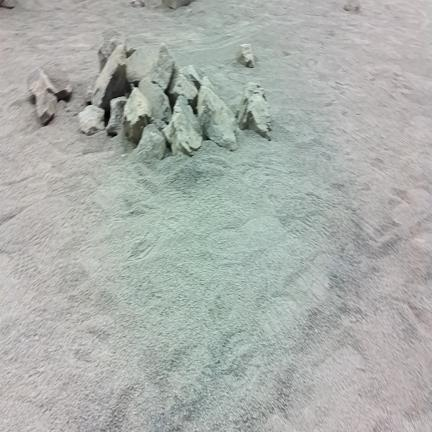Rock: (197, 77, 237, 150), (163, 96, 203, 156), (92, 45, 126, 109), (127, 44, 173, 90), (237, 83, 271, 139), (28, 69, 57, 125), (124, 88, 151, 146), (139, 79, 171, 123), (168, 70, 198, 109), (98, 29, 125, 71), (151, 43, 174, 90), (136, 124, 166, 160), (127, 47, 157, 82), (106, 97, 127, 136), (28, 69, 57, 96), (79, 105, 104, 135), (36, 90, 57, 125), (179, 65, 200, 90), (237, 44, 255, 68), (163, 0, 194, 9), (55, 85, 72, 101), (125, 37, 136, 58), (344, 0, 360, 12), (85, 85, 94, 104), (152, 119, 166, 131), (0, 0, 16, 8), (130, 0, 146, 8)
